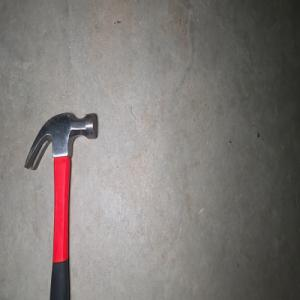Hammer: (23, 111, 98, 300)
